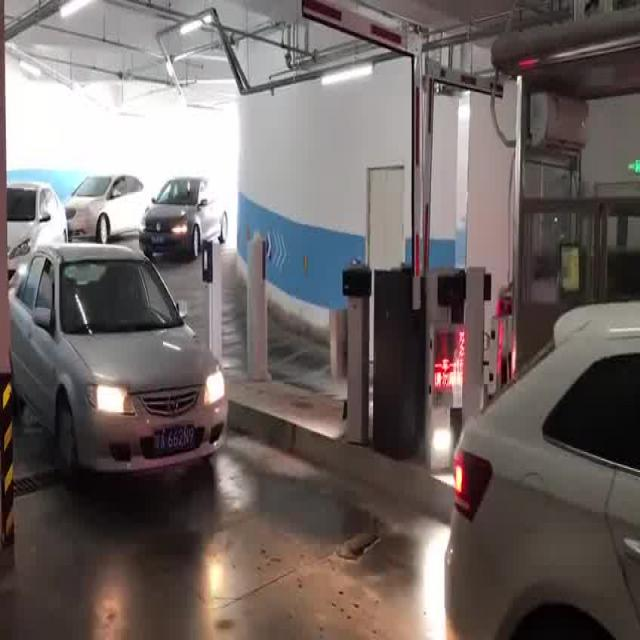CarIn: (440, 282, 640, 640), (1, 237, 241, 484), (131, 160, 252, 260)
GateOpened: (285, 5, 432, 312), (414, 37, 508, 315)
